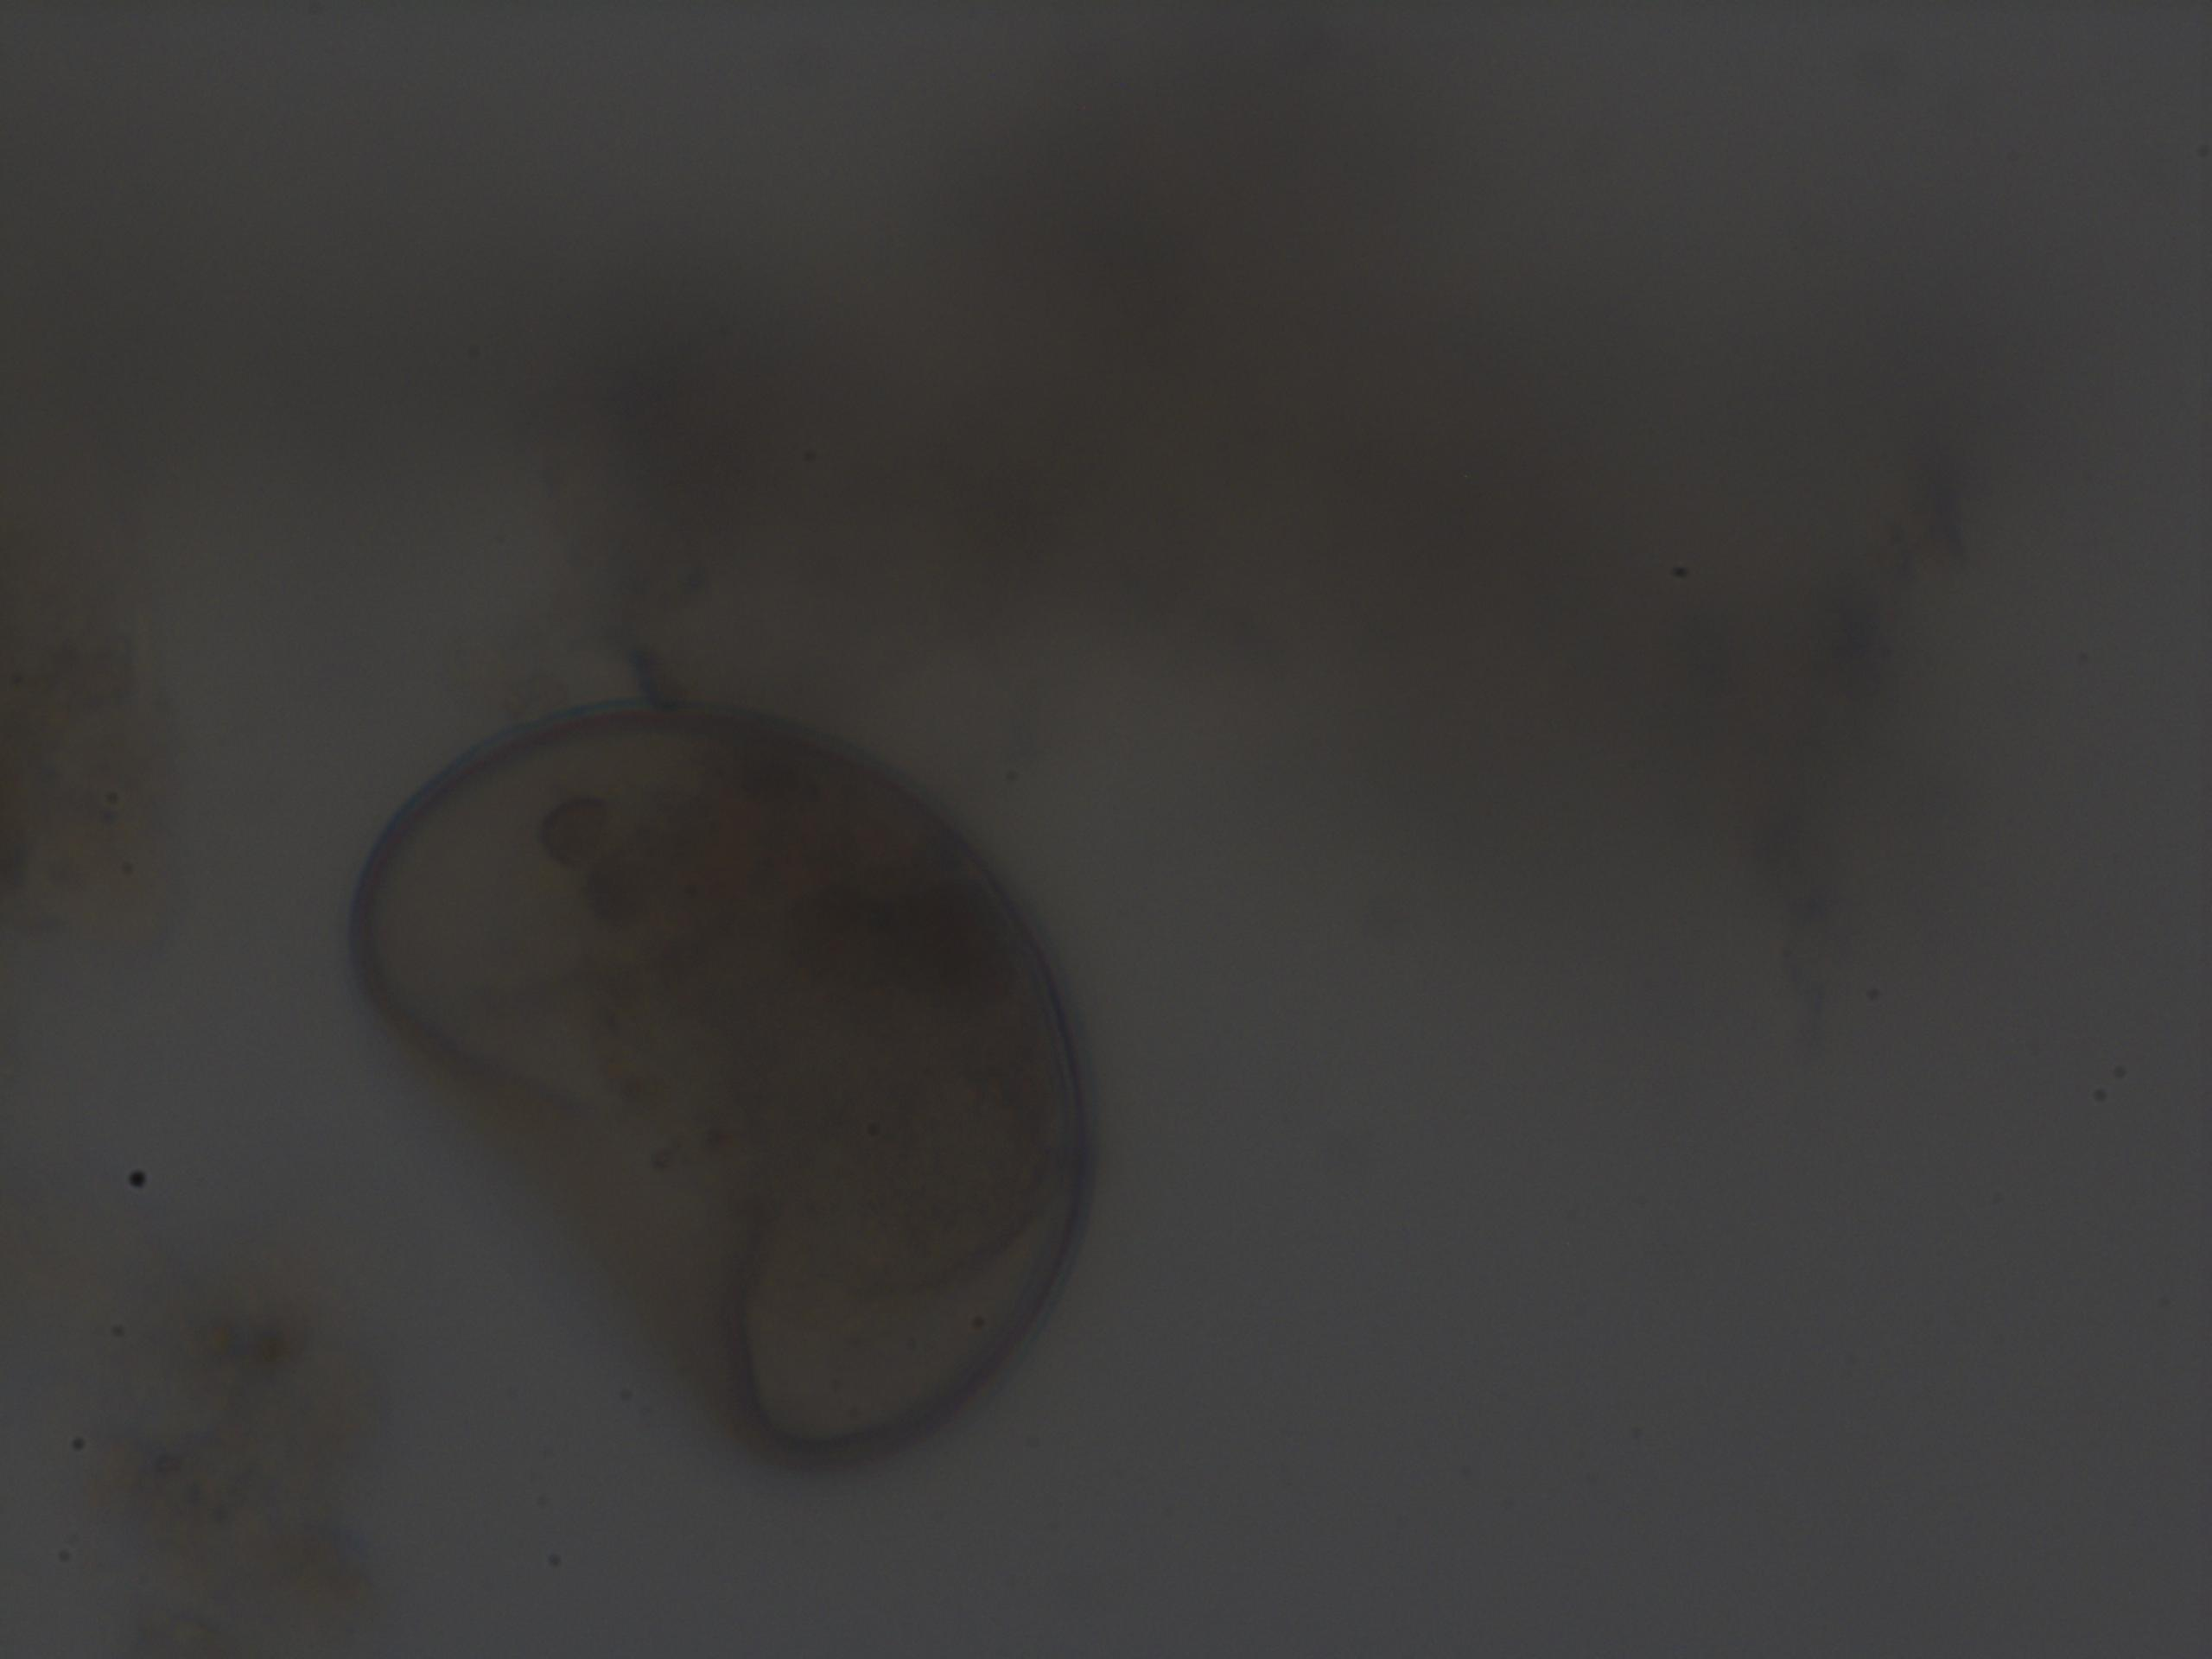protozoa: (345, 676, 1108, 1495)
